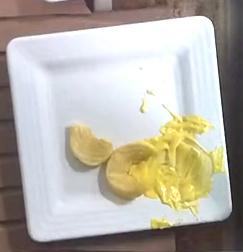fries: (69, 125, 158, 199)
